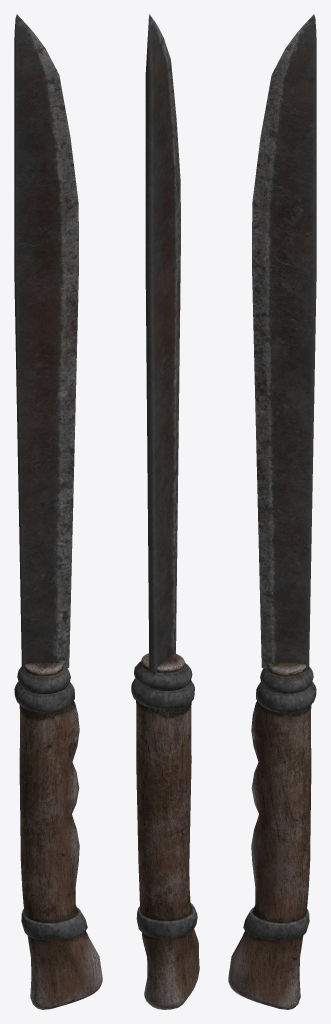
File: machete.gltf
The picture shows the model from 3 angles, left to right: view 1: azimuth 90°, elevation 25°; view 2: azimuth 150°, elevation 25°; view 3: azimuth 270°, elevation 25°; orthographic projection.
Visible parts, largest first — view 1: machete__x; view 2: machete__x; view 3: machete__x.
Boxes of the visible parts, <box> form: machete__x: <box>14,14,102,1009</box>; machete__x: <box>131,14,199,1009</box>; machete__x: <box>228,14,316,1009</box>.
Size of the model in its own units: 0.0444 by 0.7548 by 0.0611.
1 material, 1 textured.
